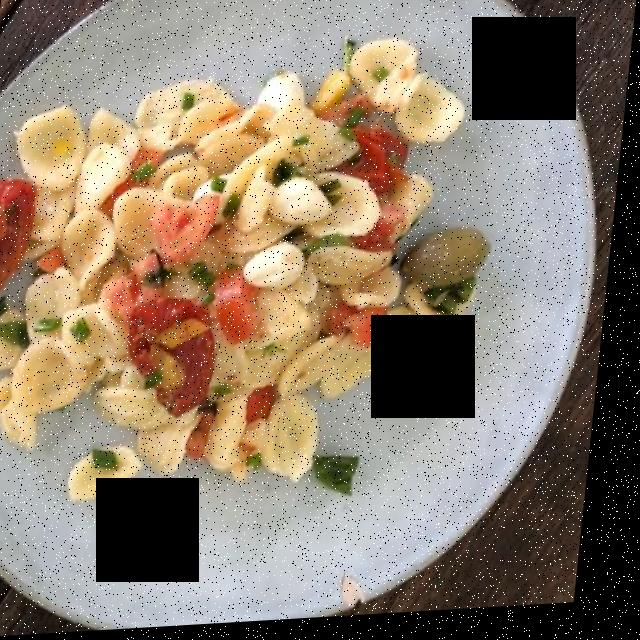basil: (321, 458, 377, 507)
green-olives: (400, 227, 497, 305)
tomato-raw: (129, 296, 232, 425)
